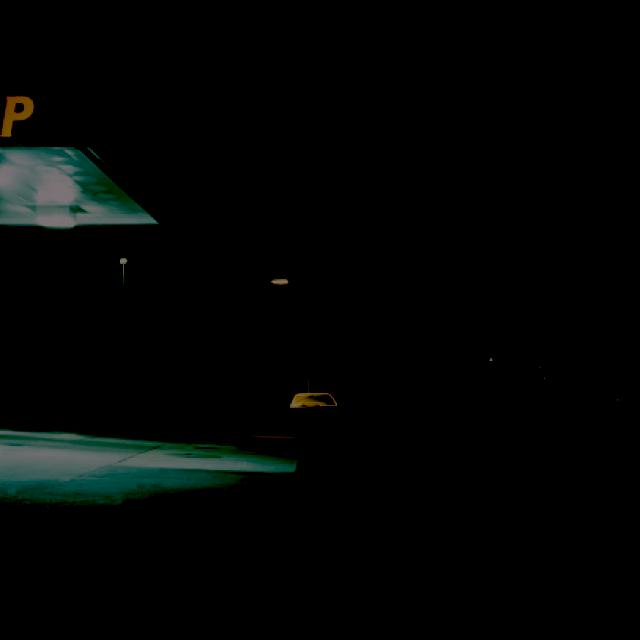Car: (274, 384, 349, 434), (101, 377, 163, 431)
